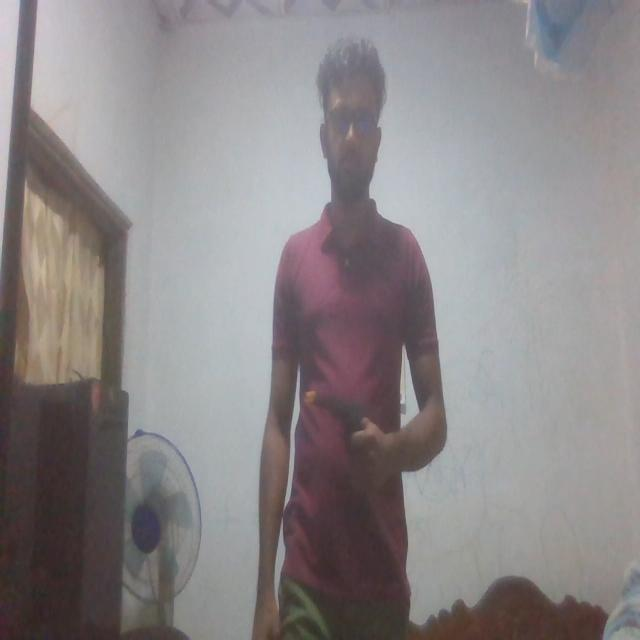Gun_Holder: (308, 382, 389, 484)
Person: (253, 35, 445, 640)
